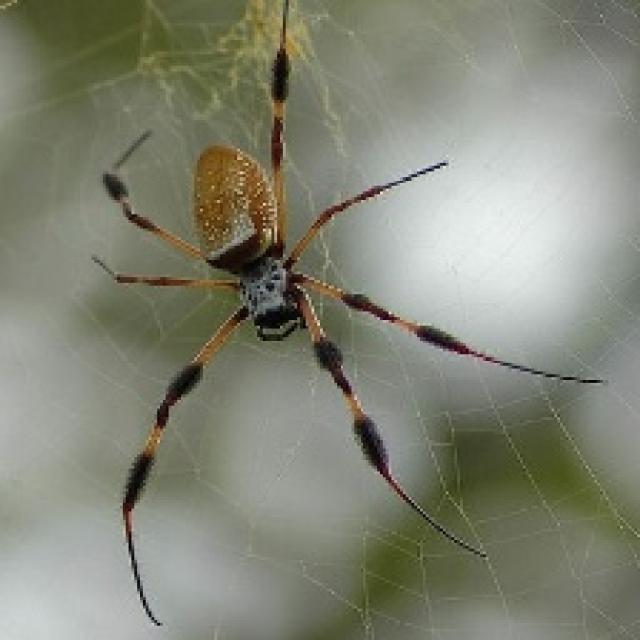Non venomous spider: (68, 69, 581, 615)
